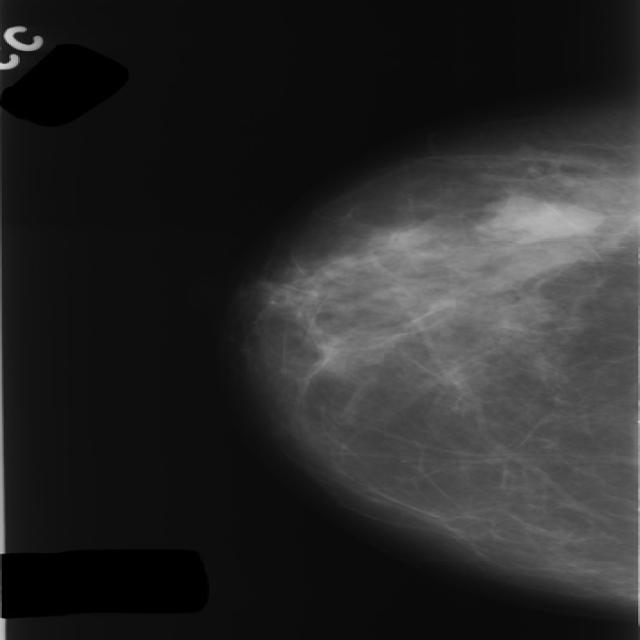tumour: (487, 196, 602, 239)
